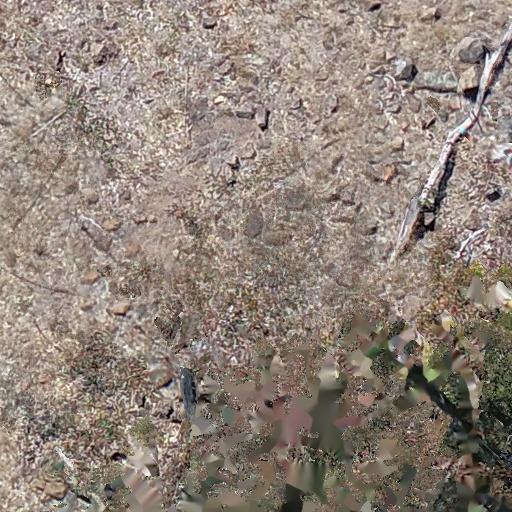stone: (453, 35, 489, 63), (40, 478, 69, 500), (230, 61, 259, 82), (393, 56, 415, 79), (240, 52, 267, 70), (418, 4, 441, 25), (86, 40, 108, 61), (80, 186, 101, 206), (257, 106, 273, 131), (404, 94, 422, 115), (80, 269, 102, 285), (110, 300, 132, 316), (329, 154, 345, 176), (101, 217, 121, 233), (238, 146, 258, 162), (389, 134, 406, 152), (325, 95, 339, 116), (321, 33, 337, 51), (55, 49, 67, 73), (132, 214, 155, 226), (226, 156, 242, 172), (78, 299, 96, 313), (234, 109, 256, 120), (421, 116, 437, 130), (382, 49, 397, 63), (201, 18, 218, 30), (289, 96, 303, 110), (212, 94, 228, 106)
